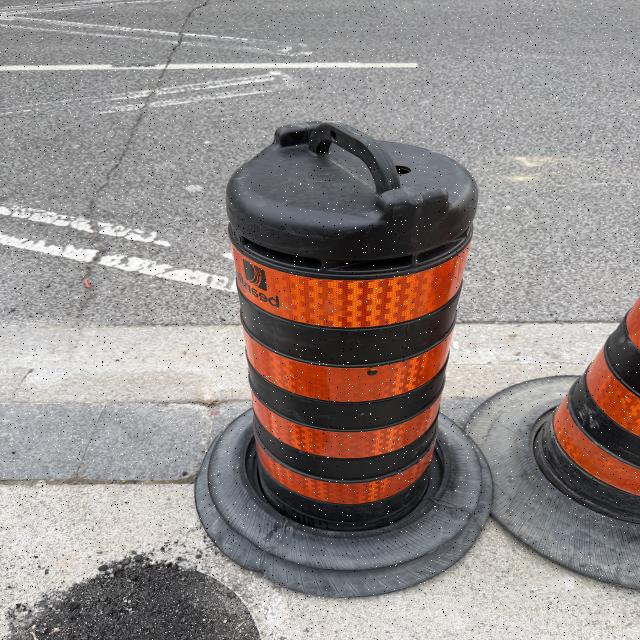Teraffic Barrel: (196, 122, 492, 596), (467, 299, 640, 588)
